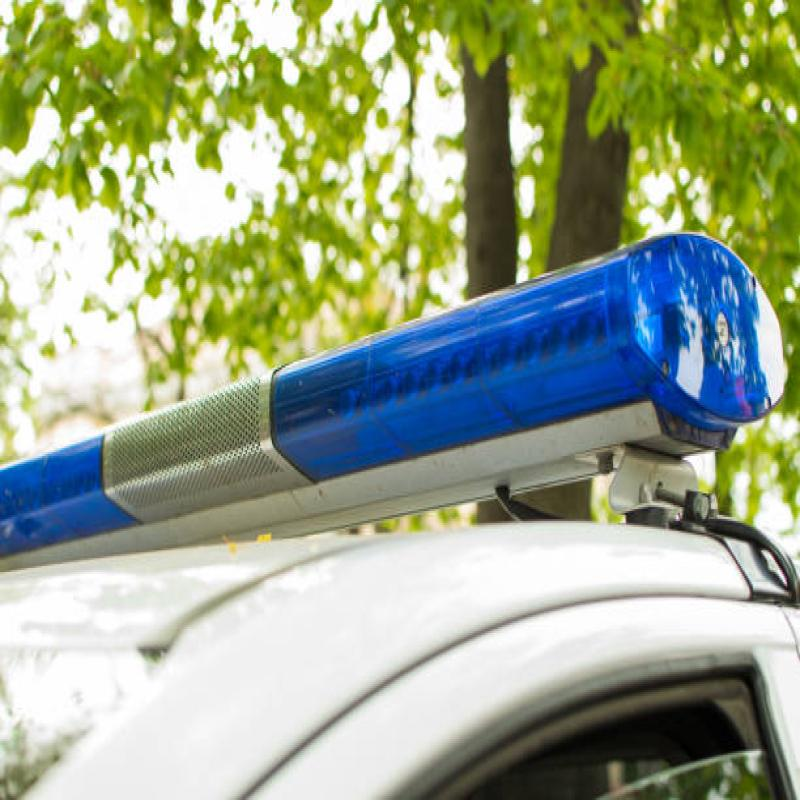AmbulanceSiren: (0, 287, 782, 482)
